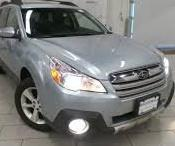SUV: (0, 0, 175, 139)
